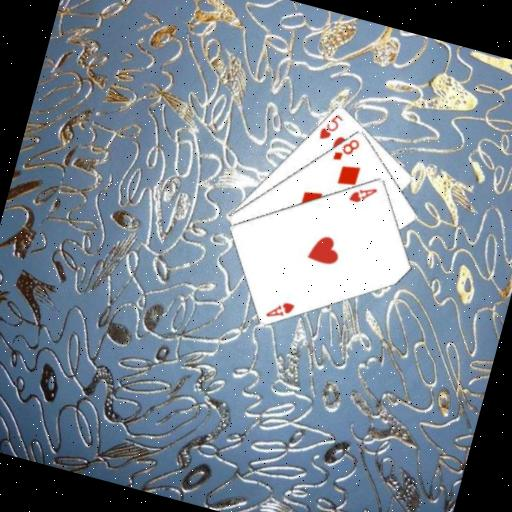5H: (314, 107, 346, 145)
8D: (329, 130, 363, 166)
AH: (261, 294, 297, 325), (345, 179, 380, 209)
